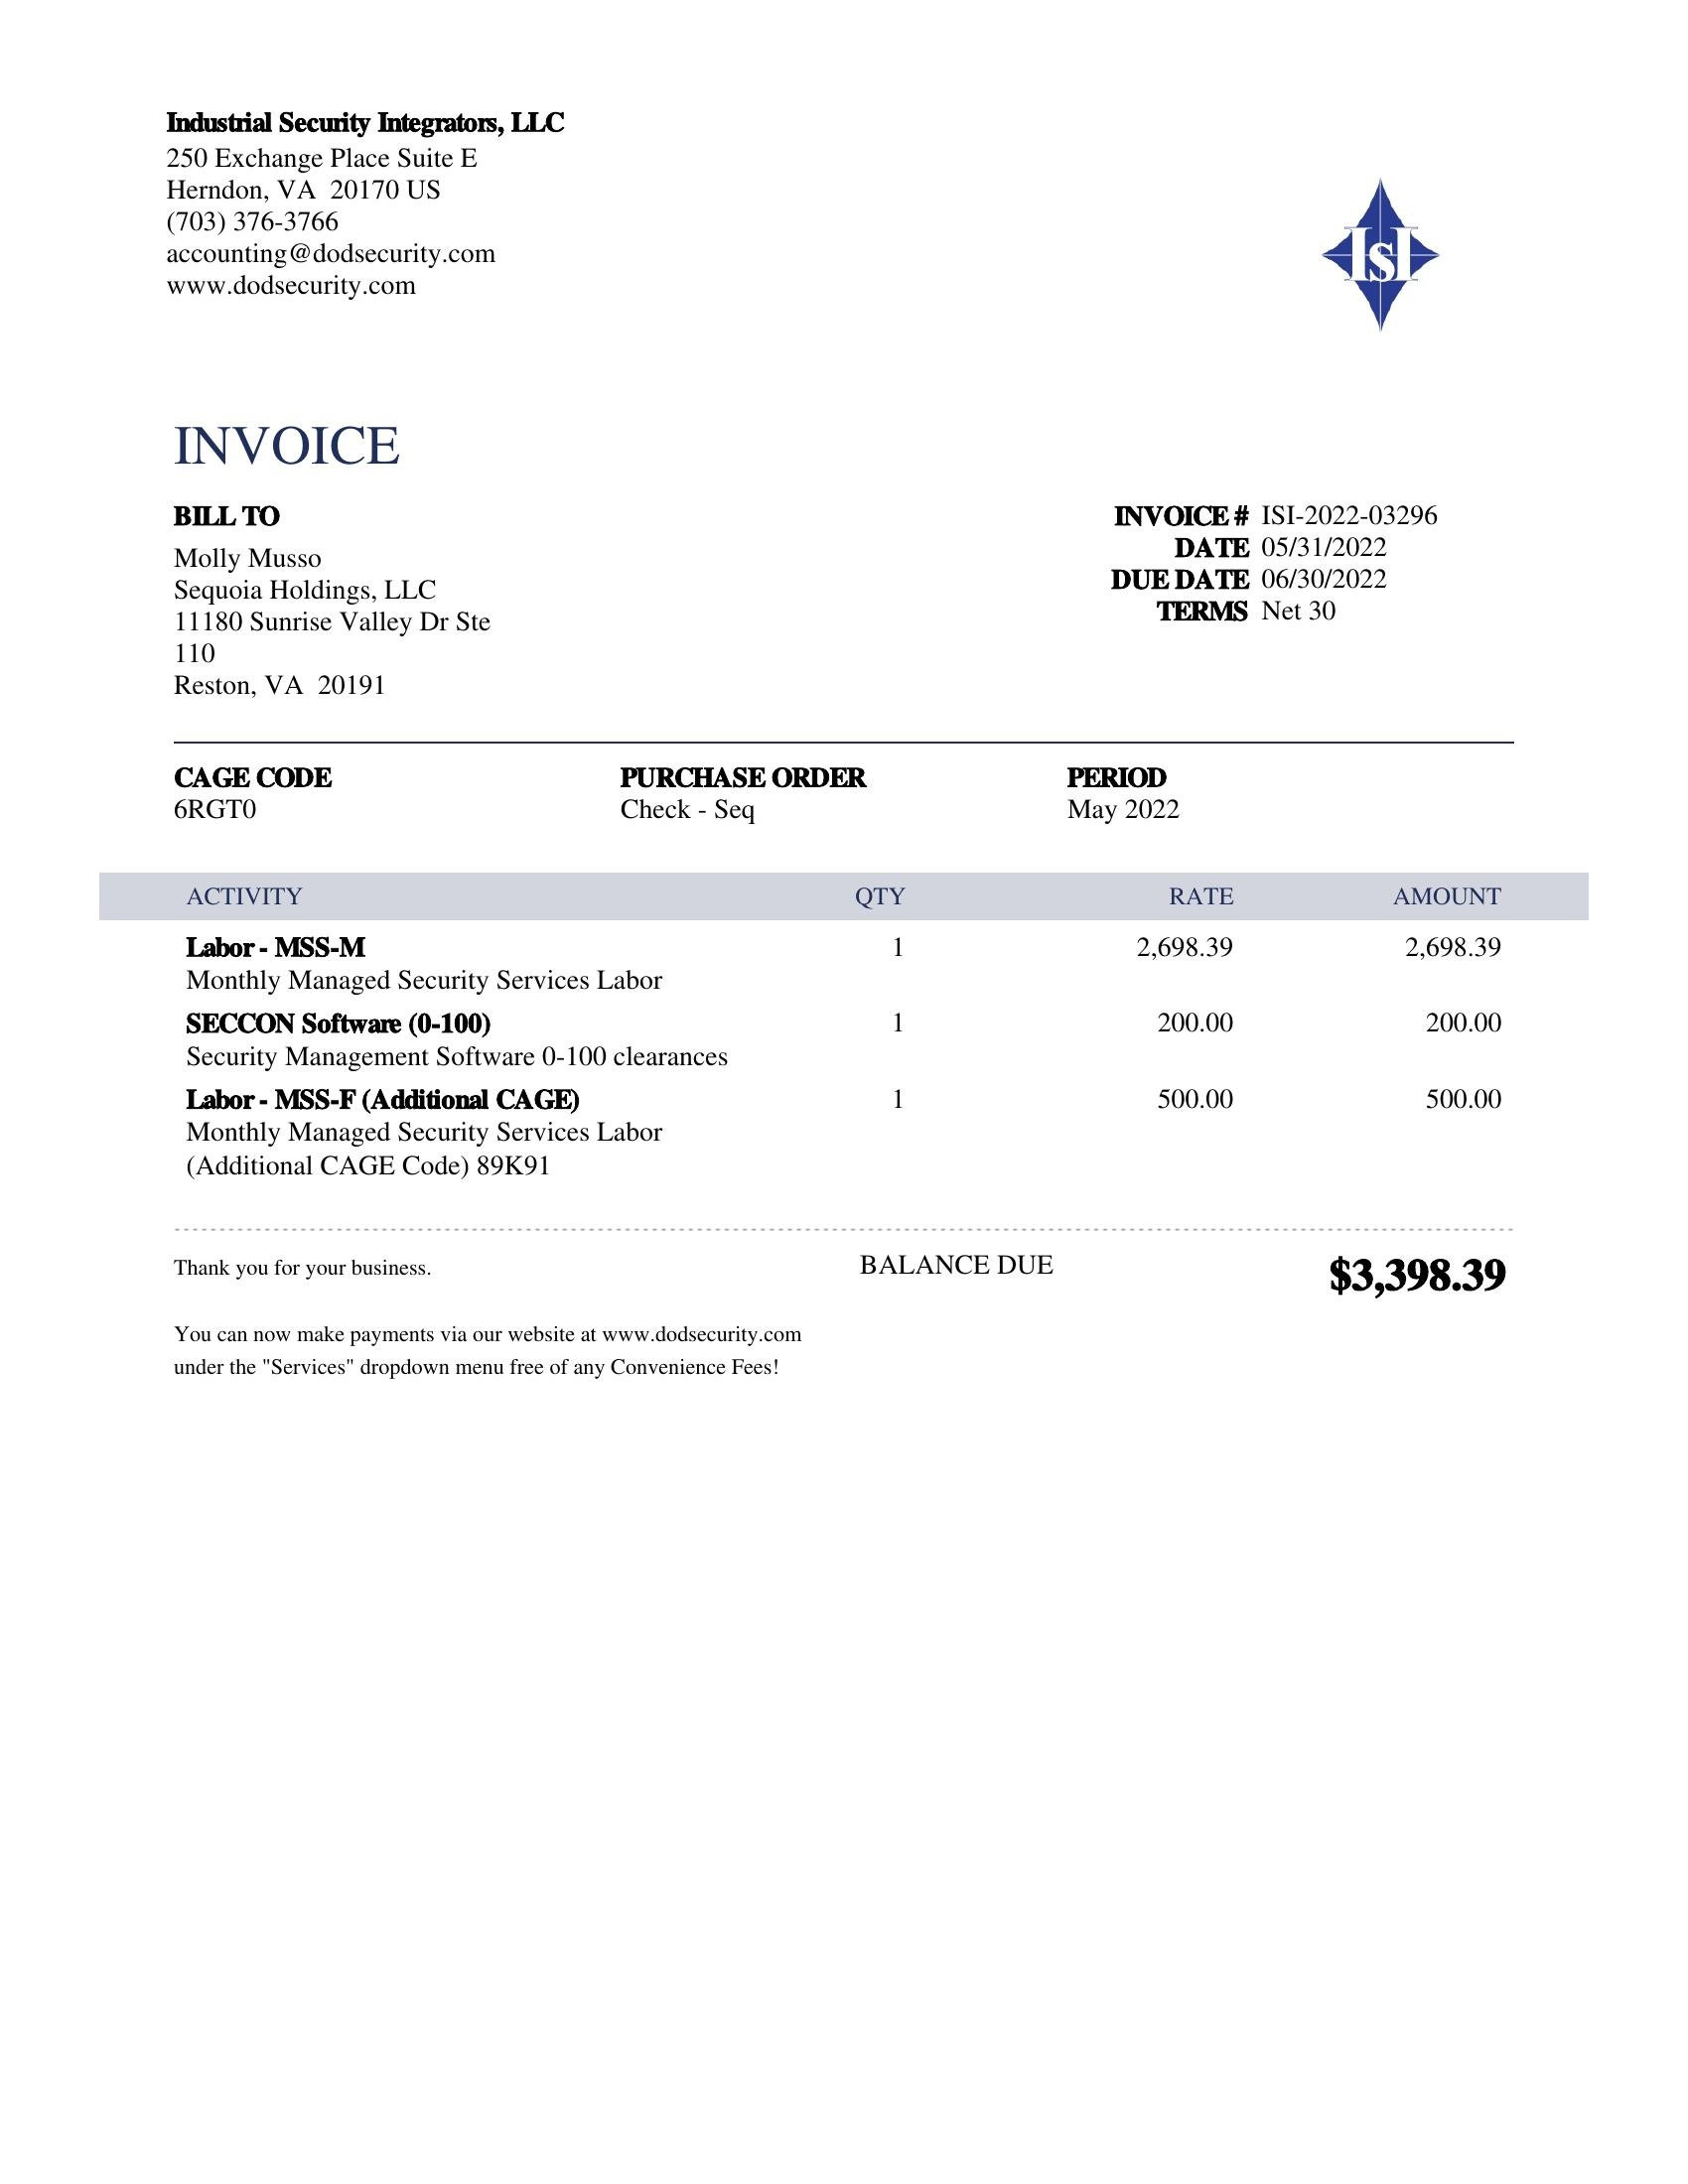0 table: (105, 847, 1528, 1234)
